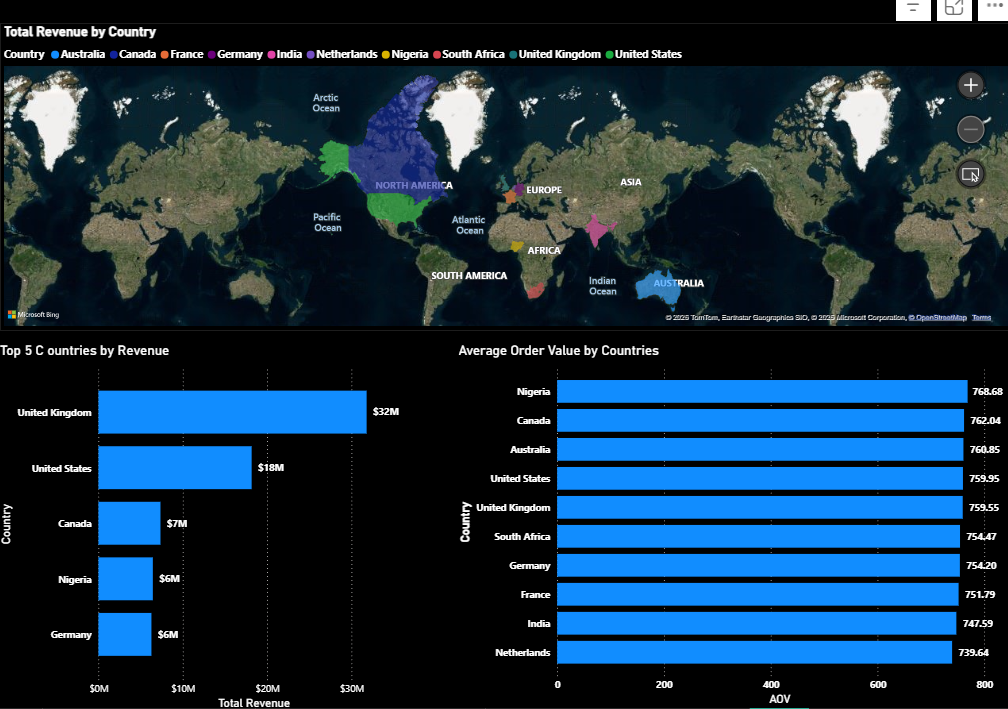

What the dashboard file says about the page in this screenshot:
{"tool":"powerbi","page":{"name":"Geographic Performance","canvas":[1280,950],"ordinal":3},"visuals":[{"type":"filledMap","title":"Total Revenue by Country","fields":{"Category":["Main_Data.Country"],"Series":["Main_Data.Country"]},"box":[0,87.7,1278.4,386.7],"z":1000},{"type":"clusteredBarChart","title":"Average Order Value by Countries","fields":{"Y":["Measure_Table.AOV"],"Category":["Main_Data.Country"]},"box":[573,489.3,706.1,461.4],"z":2000},{"type":"clusteredBarChart","title":"Top 5 C ountries by Revenue","fields":{"Y":["Measure_Table.Total Revenue"],"Category":["Main_Data.Country"]},"box":[0,489.3,532.2,461.4],"z":3000},{"type":"textbox","box":[0,0,1278.4,57.3],"z":4000}]}

Visuals, with their boxes on the page's 1280x950 design canvas (x1, y1, x2, y2). These are canvas units, not pixel positions in the 1008x709 screenshot, which may show the page scaled, cropped or inside an application window:
"Total Revenue by Country" filledMap: 0,88,1278,474
"Average Order Value by Countries" clusteredBarChart: 573,489,1279,951
"Top 5 C ountries by Revenue" clusteredBarChart: 0,489,532,951
textbox: 0,0,1278,57
